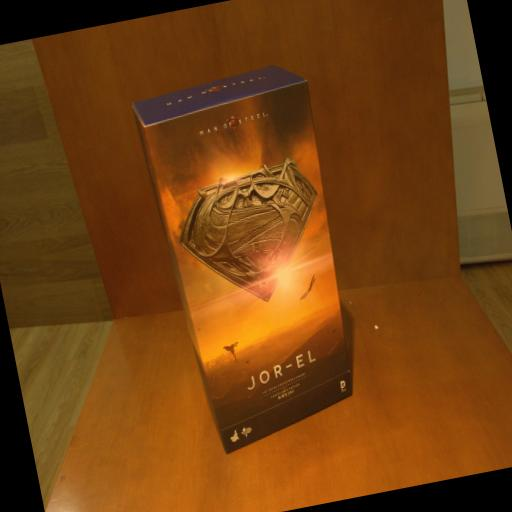superman: (130, 62, 370, 454)
